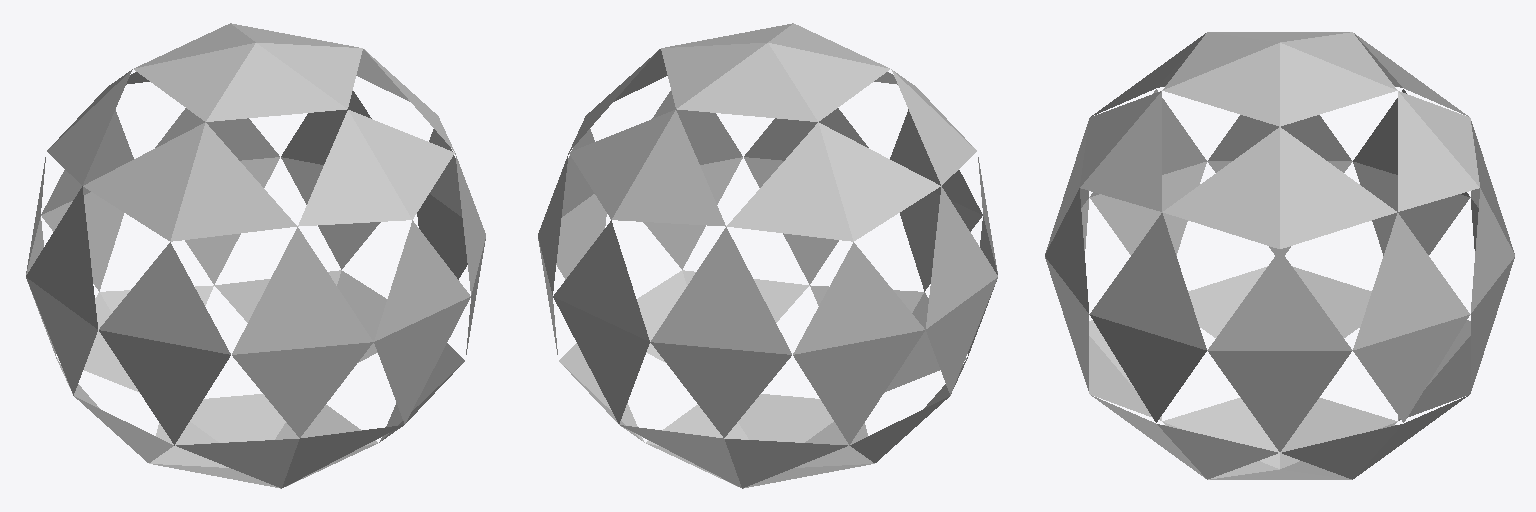
The model's file is device.obj.
The picture shows the model from 3 angles: view 1: azimuth 30°, elevation 25°; view 2: azimuth 150°, elevation 25°; view 3: azimuth 270°, elevation 25°; orthographic projection.
Parts seen in each view (by area): view 1: Icosphere; view 2: Icosphere; view 3: Icosphere.
Part boxes in pixels (x1,y1,x2,y2): Icosphere: (26, 23, 485, 488); Icosphere: (538, 23, 997, 488); Icosphere: (1045, 32, 1514, 479).
Bounding box in the file's own units: 1.9 × 2 × 2.